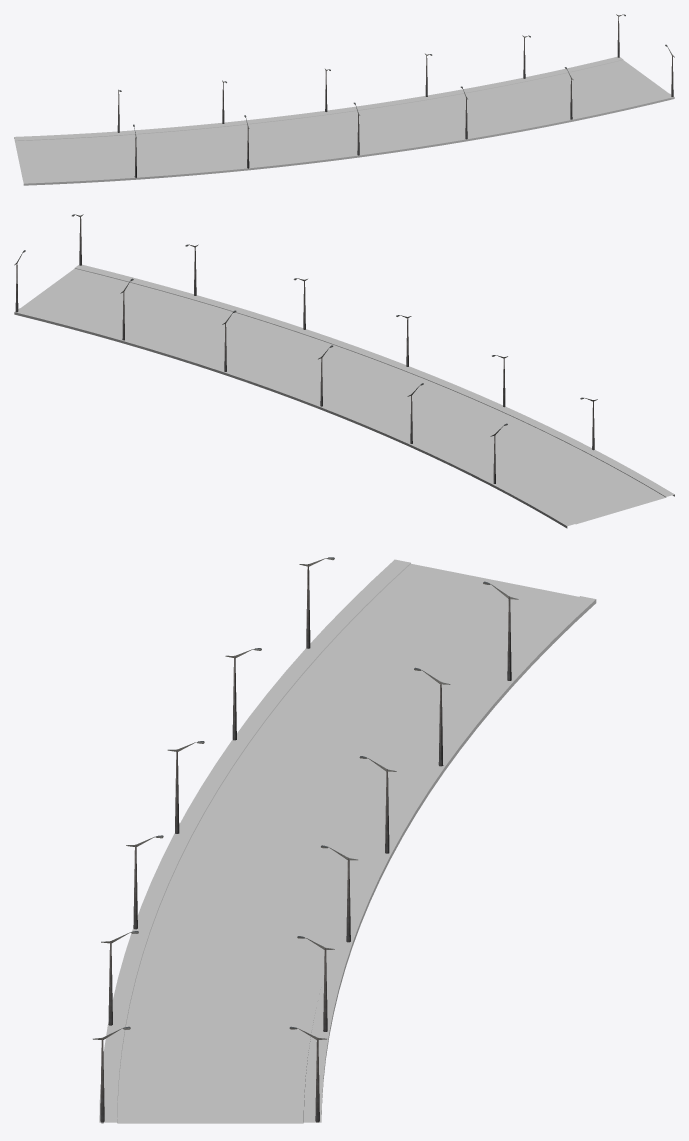
File: Big_Road_25.FBX
3 views of the same model, one above another, from view 1: azimuth 30°, elevation 25°; view 2: azimuth 150°, elevation 25°; view 3: azimuth 270°, elevation 25° (orthographic). The views are drawn at different scales.
Visible parts, largest first — view 1: Big_Road_25, city_light004; view 2: Big_Road_25, city_light004; view 3: Big_Road_25, city_light004.
Part boxes in pixels (left/top/right/bottom): Big_Road_25: left=14, top=56, right=674, bottom=185; city_light004: left=117, top=14, right=674, bottom=177; Big_Road_25: left=14, top=264, right=674, bottom=528; city_light004: left=14, top=214, right=597, bottom=483; Big_Road_25: left=99, top=559, right=596, bottom=1123; city_light004: left=93, top=557, right=518, bottom=1123.
Size of the model in its own units: 136 by 51.37 by 11.04.
